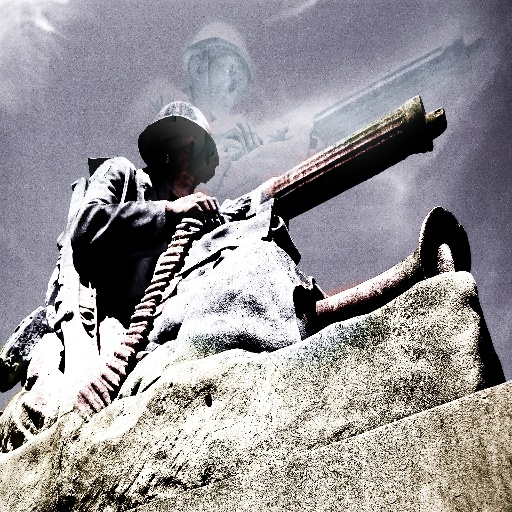hand: (210, 113, 264, 147), (166, 192, 222, 222)
